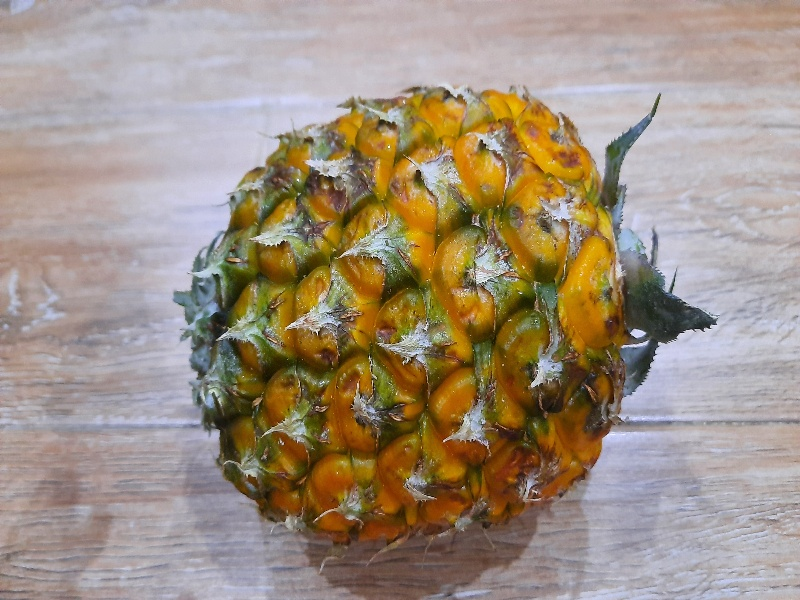fruit: (175, 87, 717, 556)
